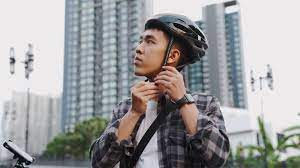helmets: (142, 12, 208, 65)
